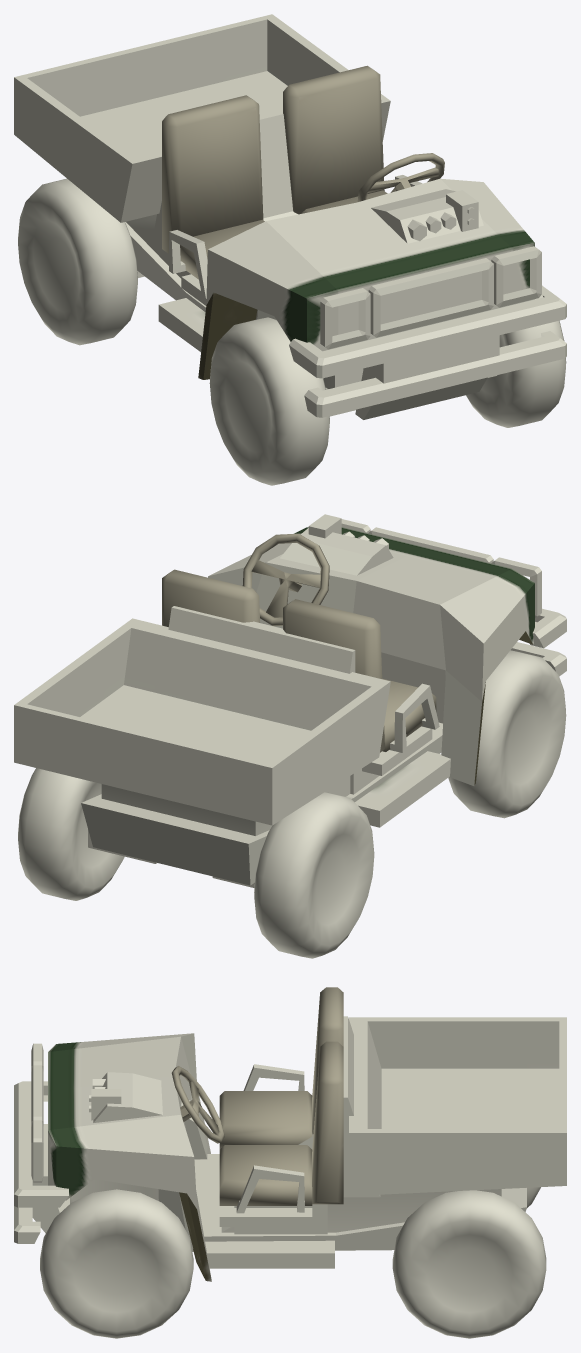
The model's file is utility_vehicle.fbx.
3 renders of one model, top to bottom at view 1: azimuth 30°, elevation 25°; view 2: azimuth 150°, elevation 25°; view 3: azimuth 270°, elevation 25°, orthographic. The views are drawn at different scales.
Parts seen in each view (by area): view 1: hull, wheel_rear_right, wheel_front_right, wheel_front_left; view 2: hull, wheel_rear_right, wheel_front_right, wheel_rear_left; view 3: hull, wheel_front_left, wheel_rear_left.
Part boxes in pixels (x1=…): hull: x1=14, y1=14, x2=566, y2=419; wheel_rear_right: x1=18, y1=178, x2=137, y2=345; wheel_front_right: x1=209, y1=317, x2=329, y2=485; wheel_front_left: x1=466, y1=320, x2=566, y2=427; hull: x1=14, y1=514, x2=566, y2=887; wheel_rear_right: x1=254, y1=792, x2=374, y2=958; wheel_front_right: x1=448, y1=650, x2=566, y2=818; wheel_rear_left: x1=18, y1=768, x2=124, y2=900; hull: x1=14, y1=987, x2=566, y2=1281; wheel_front_left: x1=40, y1=1189, x2=193, y2=1338; wheel_rear_left: x1=392, y1=1190, x2=546, y2=1338.
Size of the model in its own units: 21.16 by 18.89 by 38.05.
Materials: 1 (1 with a texture image).
